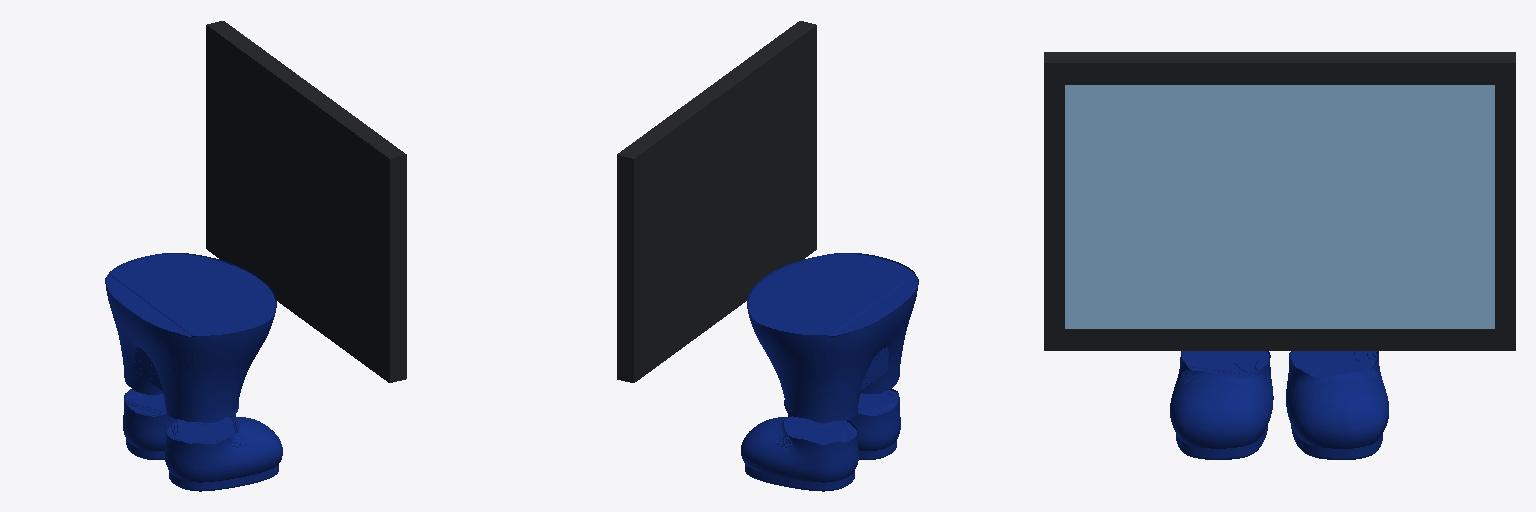
URDF robot description (haetburi):
<?xml version="1.0"?>
<!-- Haetburi biped (v16_sts3032_w4) - generated by tools/build_model.py, do not edit by hand -->
<robot name="haetburi">
  <mujoco>
    <compiler meshdir="." balanceinertia="true" discardvisual="false" strippath="false" fusestatic="false"/>
  </mujoco>
  <material name="display"><color rgba="0.18 0.19 0.21 1"/></material>
  <material name="screen"><color rgba="0.62 0.80 0.95 1"/></material>
  <material name="shell"><color rgba="0.106 0.216 0.541 1"/></material>
  <material name="motor"><color rgba="0.15 0.15 0.17 1"/></material>
  <material name="foot"><color rgba="0.25 0.25 0.28 1"/></material>
  <link name="world"/>
  <joint name="floating_base" type="floating">
    <parent link="world"/><child link="pelvis"/>
    <origin xyz="0 0 0" rpy="0 0 0"/>
  </joint>
  <link name="pelvis">
    <inertial>
      <origin xyz="-0.00640784 -9.17973e-05 0.043272" rpy="0 0 0"/>
      <mass value="0.333308"/>
      <inertia ixx="0.000560548" ixy="2.15009e-07" ixz="0.000157702" iyy="0.000614861" iyz="-4.8479e-07" izz="0.00059977"/>
    </inertial>
    <visual><origin xyz="0 0 0" rpy="0 0 0"/><geometry><mesh filename="meshes/pelvis.stl"/></geometry><material name="shell"/></visual>
    <visual><origin xyz="0.00550305 0.0283021 0.02575" rpy="0 0 0"/><geometry><box size="0.023 0.012 0.0275"/></geometry><material name="motor"/></visual>
    <visual><origin xyz="0.00549695 -0.0286513 0.02575" rpy="0 0 0"/><geometry><box size="0.023 0.012 0.0275"/></geometry><material name="motor"/></visual>
    <collision><origin xyz="0.00863234 -0.000169118 0.030195" rpy="0 0 0"/><geometry><box size="0.103498 0.137439 0.06039"/></geometry></collision>
  </link>
  <link name="torso">
    <inertial>
      <origin xyz="0.030735 9.30619e-05 0.129176" rpy="0 0 0"/>
      <mass value="2.54877"/>
      <inertia ixx="0.0506956" ixy="-0.000113818" ixz="0.00881399" iyy="0.0499891" iyz="-0.000121583" izz="0.0288355"/>
    </inertial>
    <visual><origin xyz="0 0 0" rpy="0 0 0"/><geometry><mesh filename="meshes/torso.stl"/></geometry><material name="shell"/></visual>
    <visual><origin xyz="0.097122 0 0.0482992" rpy="0 0 0"/><geometry><box size="0.013662 0.250074 0.169052"/></geometry><material name="display"/></visual>
    <visual><origin xyz="0.103953 0 0.0482992" rpy="0 0 0"/><geometry><box size="0.0004 0.228096 0.14256"/></geometry><material name="screen"/></visual>
    <collision><origin xyz="-0.0450933 -2.09917e-06 0.033268" rpy="0 0 0"/><geometry><box size="0.211663 0.143522 0.141339"/></geometry></collision>
    <collision><origin xyz="0.0550638 0.111171 0.0670376" rpy="0 0 0"/><geometry><sphere radius="0.0804164"/></geometry></collision>
    <collision><origin xyz="0.0554445 -0.111341 0.0670376" rpy="0 0 0"/><geometry><sphere radius="0.0803391"/></geometry></collision>
    <collision><origin xyz="-0.00691143 0.000353457 0.135716" rpy="0 0 0"/><geometry><sphere radius="0.13793"/></geometry></collision>
    <collision><origin xyz="-0.0120434 -0.000162502 0.199229" rpy="0 0 0"/><geometry><sphere radius="0.15913"/></geometry></collision>
    <collision><origin xyz="-0.0183387 -0.000268203 0.262753" rpy="0 0 0"/><geometry><sphere radius="0.157287"/></geometry></collision>
    <collision><origin xyz="-0.0143867 0.00113298 0.326274" rpy="0 0 0"/><geometry><sphere radius="0.136767"/></geometry></collision>
    <collision><origin xyz="-0.00851302 0.00896785 0.389834" rpy="0 0 0"/><geometry><sphere radius="0.0974832"/></geometry></collision>
    <collision><origin xyz="-0.0156013 -0.00296407 0.453339" rpy="0 0 0"/><geometry><sphere radius="0.0565725"/></geometry></collision>
    <collision><origin xyz="0.097122 0 0.0482992" rpy="0 0 0"/><geometry><box size="0.013662 0.250074 0.169052"/></geometry></collision>
  </link>
  <link name="leg_l">
    <inertial>
      <origin xyz="-0.000674993 -0.000243454 -0.023168" rpy="0 0 0"/>
      <mass value="0.0334504"/>
      <inertia ixx="1.42509e-05" ixy="-1.24724e-08" ixz="2.89679e-07" iyy="1.27961e-05" iyz="1.32784e-07" izz="1.12029e-05"/>
    </inertial>
    <visual><origin xyz="0 0 0" rpy="0 0 0"/><geometry><mesh filename="meshes/leg_l.stl"/></geometry><material name="shell"/></visual>
    <collision><origin xyz="-6.54781e-07 -9.02674e-06 -0.00706914" rpy="0 0 0"/><geometry><box size="0.0539882 0.0494623 0.0141383"/></geometry></collision>
  </link>
  <link name="ankle_l">
    <inertial>
      <origin xyz="-0.00323834 -0.000888526 -0.000346315" rpy="0 0 0"/>
      <mass value="0.0468531"/>
      <inertia ixx="4.29169e-06" ixy="-4.16163e-07" ixz="-1.62205e-07" iyy="6.95821e-06" iyz="-1.64933e-08" izz="9.18016e-06"/>
    </inertial>
    <visual><origin xyz="0.0055 0 0" rpy="0 0 0"/><geometry><box size="0.023 0.0275 0.012"/></geometry><material name="motor"/></visual>
  </link>
  <link name="foot_l">
    <inertial>
      <origin xyz="0.0120367 0.000920754 0.000681806" rpy="0 0 0"/>
      <mass value="0.111605"/>
      <inertia ixx="3.7675e-05" ixy="-2.60851e-06" ixz="-1.68551e-06" iyy="6.86535e-05" iyz="-1.46775e-07" izz="7.5453e-05"/>
    </inertial>
    <visual><origin xyz="0 0 0" rpy="0 0 0"/><geometry><mesh filename="meshes/foot_l.stl"/></geometry><material name="shell"/></visual>
    <visual><origin xyz="0 0 0.0055" rpy="0 0 0"/><geometry><box size="0.0275 0.012 0.023"/></geometry><material name="motor"/></visual>
    <collision><origin xyz="0 0 0" rpy="0 0 0"/><geometry><mesh filename="meshes/foot_l.stl"/></geometry></collision>
  </link>
  <link name="leg_r">
    <inertial>
      <origin xyz="-0.000503621 0.000279855 -0.0230273" rpy="0 0 0"/>
      <mass value="0.0336428"/>
      <inertia ixx="1.44114e-05" ixy="-6.05135e-08" ixz="2.2706e-07" iyy="1.28082e-05" iyz="-1.52888e-07" izz="1.13239e-05"/>
    </inertial>
    <visual><origin xyz="0 0 0" rpy="0 0 0"/><geometry><mesh filename="meshes/leg_r.stl"/></geometry><material name="shell"/></visual>
    <collision><origin xyz="1.56369e-06 1.43102e-05 -0.00697849" rpy="0 0 0"/><geometry><box size="0.0539444 0.0495573 0.013957"/></geometry></collision>
  </link>
  <link name="ankle_r">
    <inertial>
      <origin xyz="-0.00335378 0.000381297 -0.000346315" rpy="0 0 0"/>
      <mass value="0.0468531"/>
      <inertia ixx="4.25717e-06" ixy="1.80949e-07" ixz="-1.64348e-07" iyy="7.06706e-06" iyz="7.07782e-09" izz="9.25449e-06"/>
    </inertial>
    <visual><origin xyz="0.0055 0 0" rpy="0 0 0"/><geometry><box size="0.023 0.0275 0.012"/></geometry><material name="motor"/></visual>
  </link>
  <link name="foot_r">
    <inertial>
      <origin xyz="0.0118579 -0.000420985 0.000629291" rpy="0 0 0"/>
      <mass value="0.11132"/>
      <inertia ixx="3.73803e-05" ixy="2.34252e-06" ixz="-1.53305e-06" iyy="6.81279e-05" iyz="9.86769e-08" izz="7.49142e-05"/>
    </inertial>
    <visual><origin xyz="0 0 0" rpy="0 0 0"/><geometry><mesh filename="meshes/foot_r.stl"/></geometry><material name="shell"/></visual>
    <visual><origin xyz="0 0 0.0055" rpy="0 0 0"/><geometry><box size="0.0275 0.012 0.023"/></geometry><material name="motor"/></visual>
    <collision><origin xyz="0 0 0" rpy="0 0 0"/><geometry><mesh filename="meshes/foot_r.stl"/></geometry></collision>
  </link>
  <joint name="waist_fixed" type="fixed">
    <parent link="pelvis"/><child link="torso"/>
    <origin xyz="0 0 0.06039" rpy="0 0 0"/>
  </joint>
  <joint name="hip_yaw_l" type="revolute">
    <parent link="pelvis"/><child link="leg_l"/>
    <origin xyz="3.0484e-06 0.0283021 0" rpy="0 0 0"/>
    <axis xyz="0 0 1"/>
    <limit lower="-0.523599" upper="0.523599" effort="0.44" velocity="11.6"/>
    <dynamics damping="0.03142857142857144" friction="0.012571428571428574"/>
  </joint>
  <joint name="hip_yaw_r" type="revolute">
    <parent link="pelvis"/><child link="leg_r"/>
    <origin xyz="-3.0484e-06 -0.0286513 0" rpy="0 0 0"/>
    <axis xyz="0 0 1"/>
    <limit lower="-0.523599" upper="0.523599" effort="0.44" velocity="11.6"/>
    <dynamics damping="0.03142857142857144" friction="0.012571428571428574"/>
  </joint>
  <joint name="ankle_pitch_l" type="revolute">
    <parent link="leg_l"/><child link="ankle_l"/>
    <origin xyz="0.0223313 0.00449315 -0.0506375" rpy="0 0 0"/>
    <axis xyz="0 1 0"/>
    <limit lower="-0.261799" upper="0.261799" effort="0.44" velocity="11.6"/>
    <dynamics damping="0.03142857142857144" friction="0.012571428571428574"/>
  </joint>
  <joint name="ankle_pitch_r" type="revolute">
    <parent link="leg_r"/><child link="ankle_r"/>
    <origin xyz="0.0229648 -0.00312424 -0.0506375" rpy="0 0 0"/>
    <axis xyz="0 1 0"/>
    <limit lower="-0.261799" upper="0.261799" effort="0.44" velocity="11.6"/>
    <dynamics damping="0.03142857142857144" friction="0.012571428571428574"/>
  </joint>
  <joint name="ankle_roll_l" type="revolute">
    <parent link="ankle_l"/><child link="foot_l"/>
    <origin xyz="-0.02647 -0.00381 -0.001485" rpy="0 0 0"/>
    <axis xyz="1 0 0"/>
    <limit lower="-0.20944" upper="0.20944" effort="0.44" velocity="11.6"/>
    <dynamics damping="0.03142857142857144" friction="0.012571428571428574"/>
  </joint>
  <joint name="ankle_roll_r" type="revolute">
    <parent link="ankle_r"/><child link="foot_r"/>
    <origin xyz="-0.026965 0.001635 -0.001485" rpy="0 0 0"/>
    <axis xyz="1 0 0"/>
    <limit lower="-0.20944" upper="0.20944" effort="0.44" velocity="11.6"/>
    <dynamics damping="0.03142857142857144" friction="0.012571428571428574"/>
  </joint>
</robot>

--- What the picture shows (computed from the rendered views, not written in the file) ---
Views: 3 orthographic renders of the robot side by side, from view 1: azimuth 30°, elevation 25°; view 2: azimuth 150°, elevation 25°; view 3: azimuth 270°, elevation 25°.
Model haetburi with 9 links and 8 joints (6 revolute, 1 fixed, 1 floating), rooted at world, posed all joints at 0.
Visible links, largest first — view 1: torso, pelvis, foot_r, foot_l, leg_r, leg_l; view 2: torso, pelvis, foot_l, foot_r, leg_l; view 3: torso, foot_r, foot_l.
Link boxes in pixels (x1=…): torso: x1=206, y1=21, x2=406, y2=382; pelvis: x1=105, y1=253, x2=276, y2=407; foot_r: x1=165, y1=416, x2=282, y2=491; foot_l: x1=123, y1=389, x2=235, y2=459; leg_r: x1=164, y1=395, x2=239, y2=422; leg_l: x1=123, y1=363, x2=162, y2=394; torso: x1=617, y1=21, x2=816, y2=382; pelvis: x1=747, y1=253, x2=918, y2=407; foot_l: x1=741, y1=416, x2=858, y2=491; foot_r: x1=788, y1=389, x2=900, y2=459; leg_l: x1=783, y1=393, x2=860, y2=423; torso: x1=1044, y1=52, x2=1515, y2=350; foot_r: x1=1170, y1=351, x2=1273, y2=459; foot_l: x1=1286, y1=351, x2=1388, y2=459.
Size in the robot's own frame: 0.1473 by 0.2501 by 0.2578 metres.
Meshes: 6 distinct files referenced, 5 mesh visuals loaded (5 binary STL); not drawn: 1 (reference not matched to a file when rendering).
